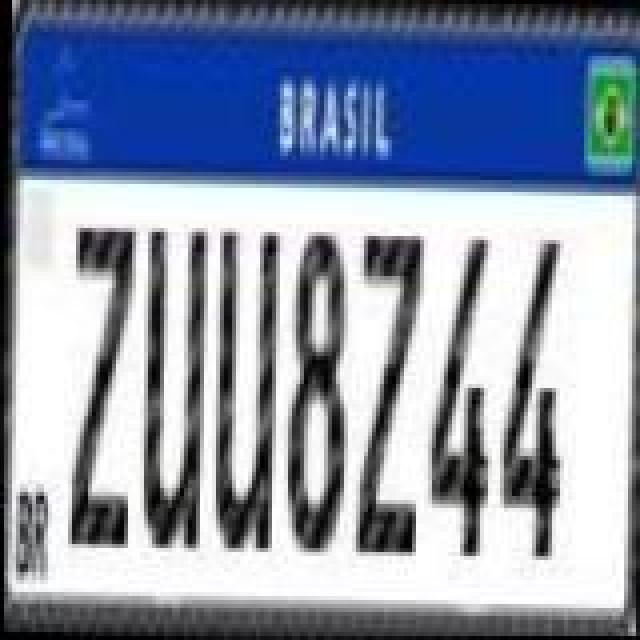4: (418, 224, 494, 564), (492, 228, 564, 564)
8: (280, 222, 352, 558)
U: (206, 224, 282, 552), (136, 218, 208, 554)
Z: (350, 222, 426, 562), (62, 220, 138, 548)
